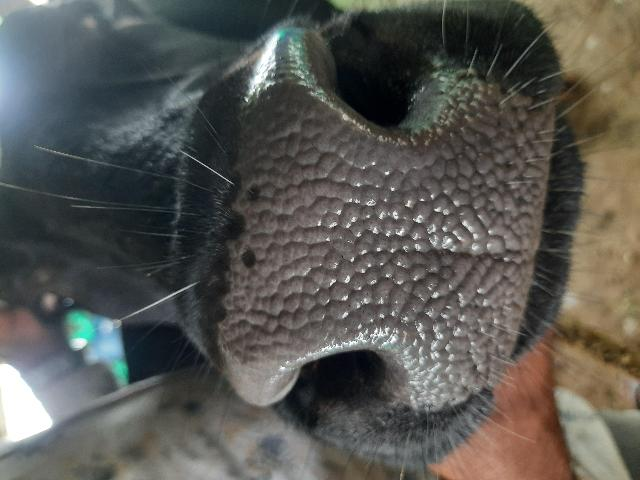Muzzle: (253, 114, 517, 354)
